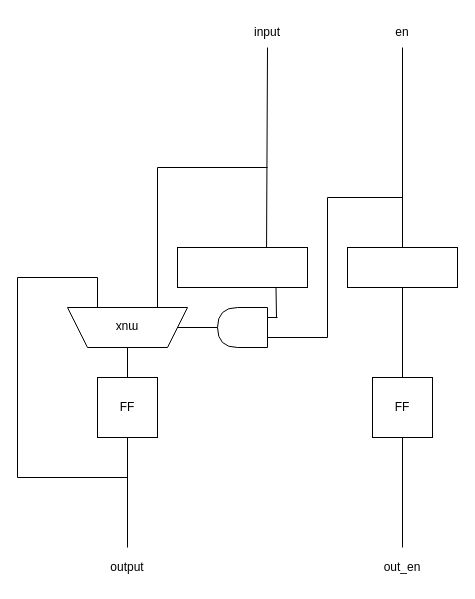
Image size: 475x599. Some labels were removed from this diagram. The shapes that lost their labels are listed below. From the top down, each one's box as (x1, y1, x2, y2) in pixels, then its label:
(176, 246, 308, 288): comparator
(346, 246, 458, 288): counter
